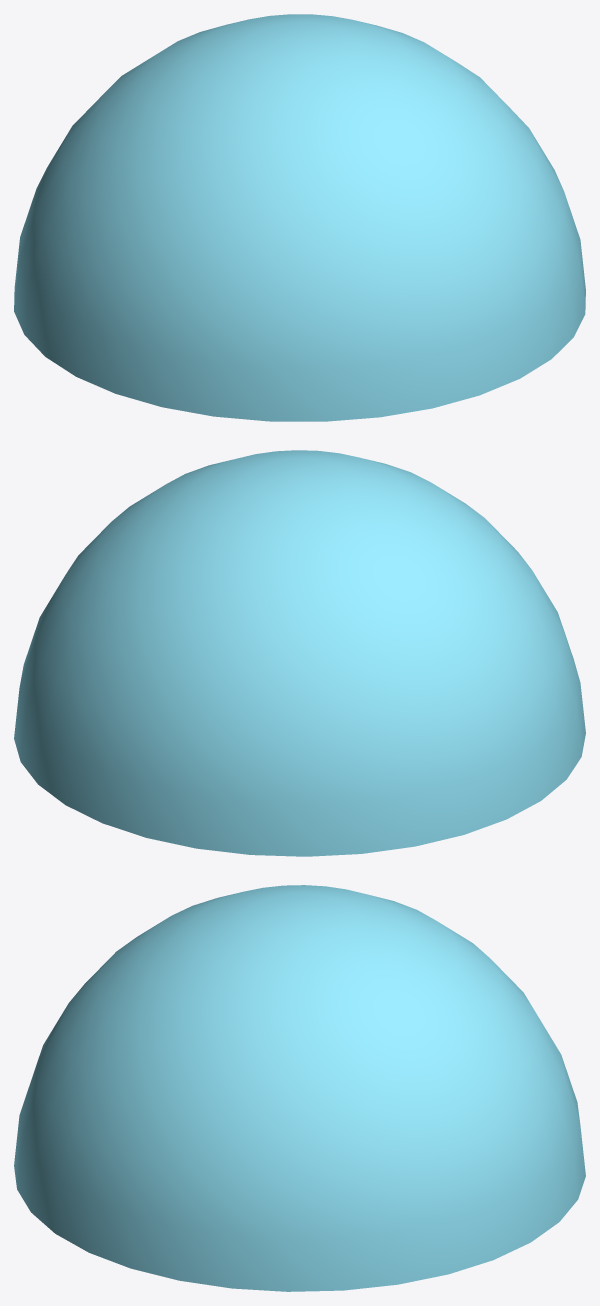
The model's file is Sky.FBX.
3 renders of one model, top to bottom at view 1: azimuth 30°, elevation 25°; view 2: azimuth 150°, elevation 25°; view 3: azimuth 270°, elevation 25°, orthographic.
Visible parts, largest first — view 1: Sky; view 2: Sky; view 3: Sky.
Boxes of the visible parts, x1,y1,x2,y2 form: Sky: (14,14,585,421); Sky: (14,450,585,856); Sky: (14,885,585,1291).
Bounding box in the file's own units: 599429 × 300000 × 599429.
